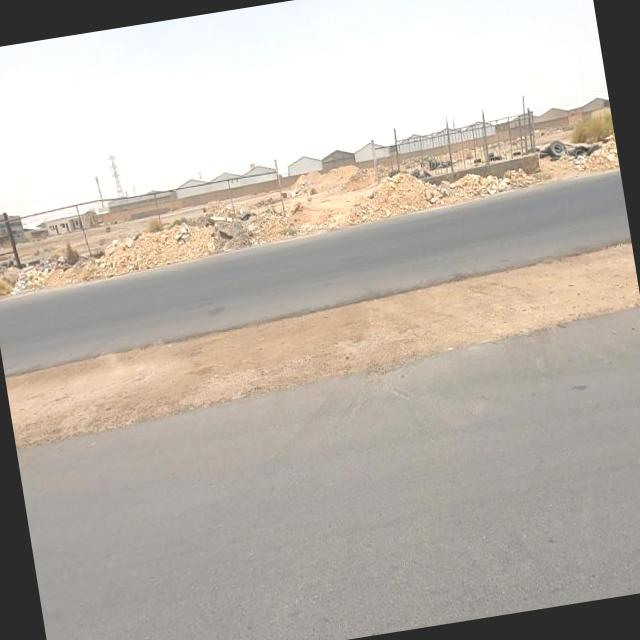debris: (0, 229, 78, 317), (543, 114, 622, 194), (184, 187, 253, 269), (385, 139, 447, 211), (526, 115, 588, 183), (463, 121, 524, 186), (154, 198, 212, 264)
